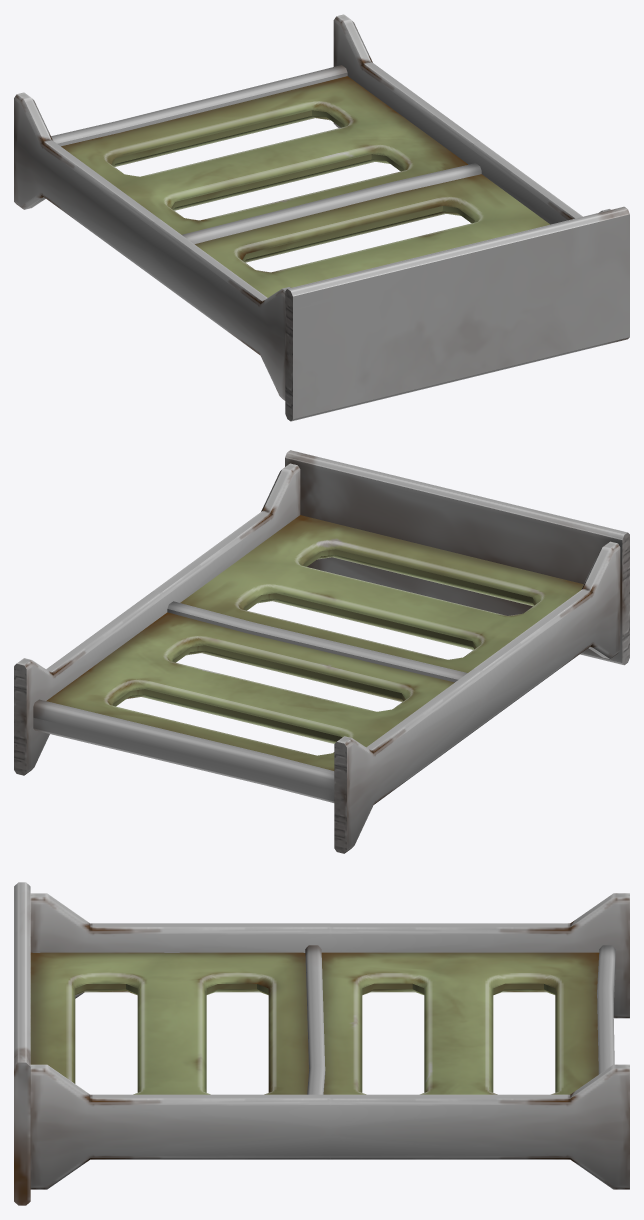
Rendered from HubWall2.FBX.
3 renders of one model, top to bottom at view 1: azimuth 30°, elevation 25°; view 2: azimuth 150°, elevation 25°; view 3: azimuth 270°, elevation 25°, orthographic. The views are drawn at different scales.
Visible parts, largest first — view 1: HubWall2_LOD0; view 2: HubWall2_LOD0; view 3: HubWall2_LOD0.
Part boxes in pixels (left/top/right/bottom): HubWall2_LOD0: left=14, top=14, right=629, bottom=421; HubWall2_LOD0: left=14, top=450, right=629, bottom=853; HubWall2_LOD0: left=14, top=882, right=629, bottom=1205.
Size of what is drawn, in the model's own units: 5.24 by 1.94 by 7.57.
